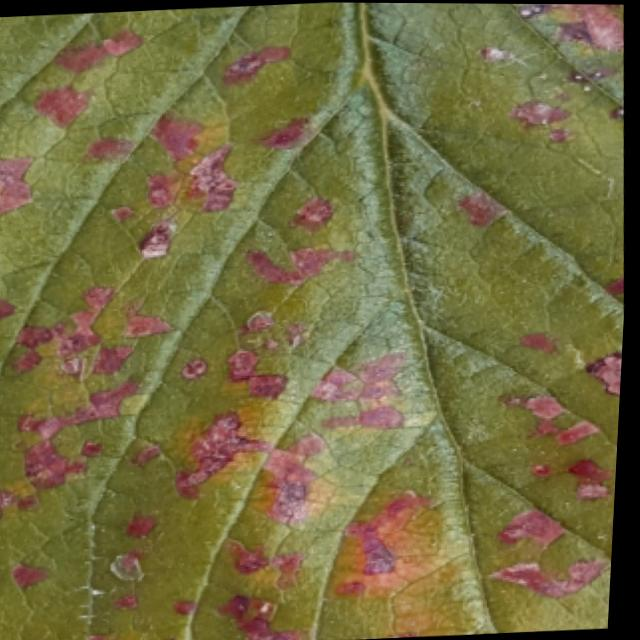Angular Leafspot: (0, 2, 627, 640)
